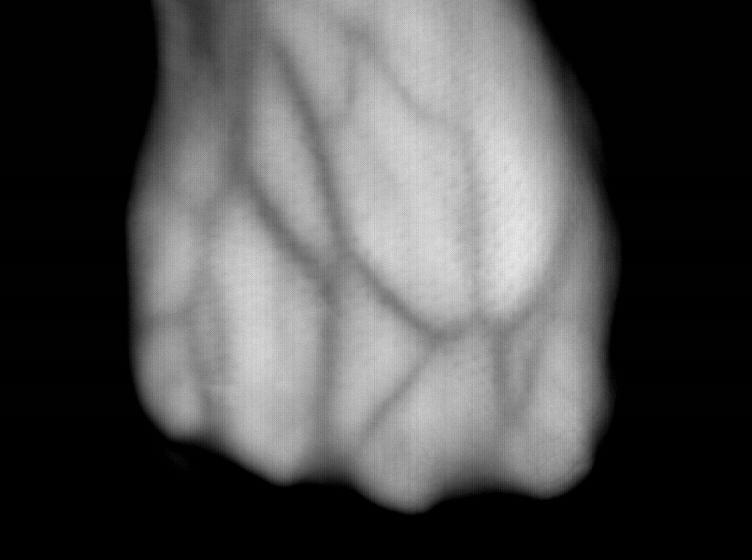Vein: (225, 49, 469, 349)
